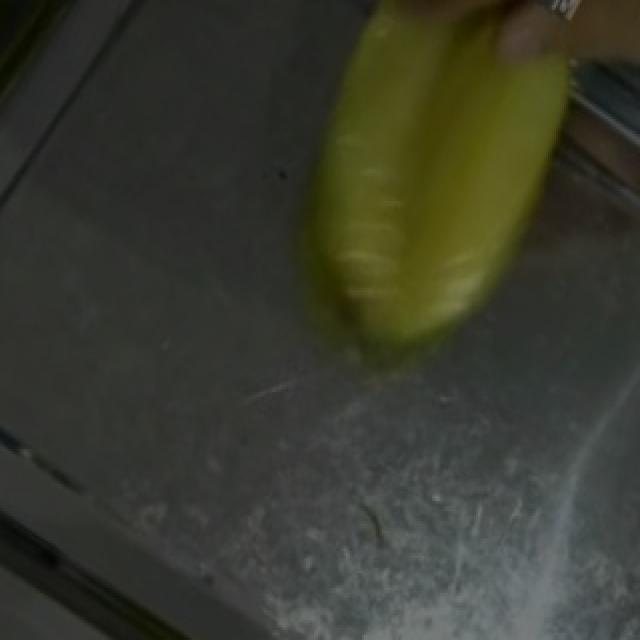fruit: (274, 0, 626, 367)
